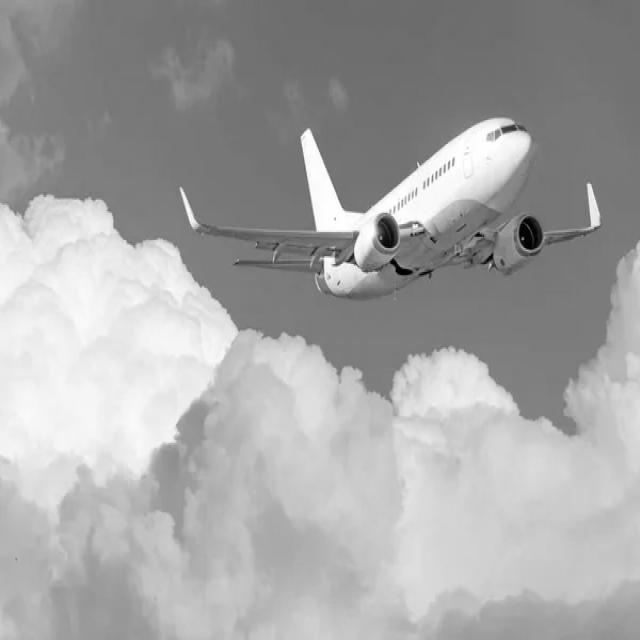Aircraft: (175, 98, 605, 308)
